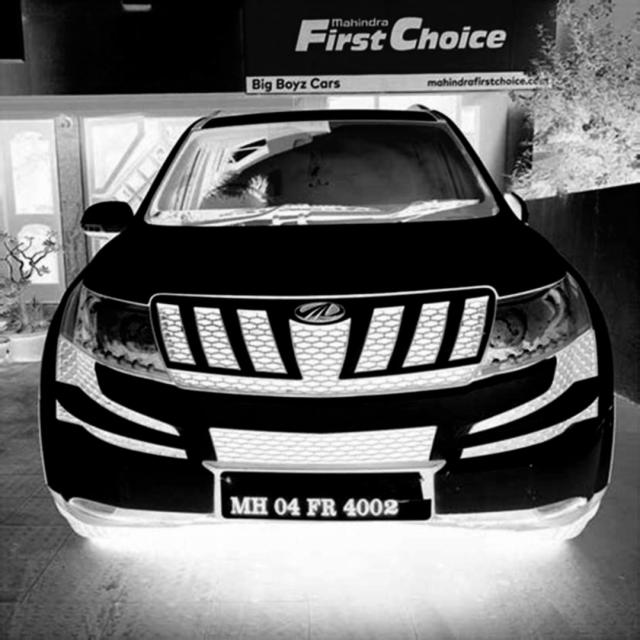Non_registered: (223, 472, 432, 528)
